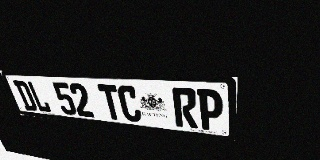2: (68, 83, 94, 117)
5: (52, 82, 78, 116)
C: (116, 85, 143, 123)
D: (12, 80, 39, 111)
L: (26, 81, 52, 113)
P: (197, 89, 223, 131)
R: (172, 87, 198, 129)
T: (97, 84, 124, 121)
